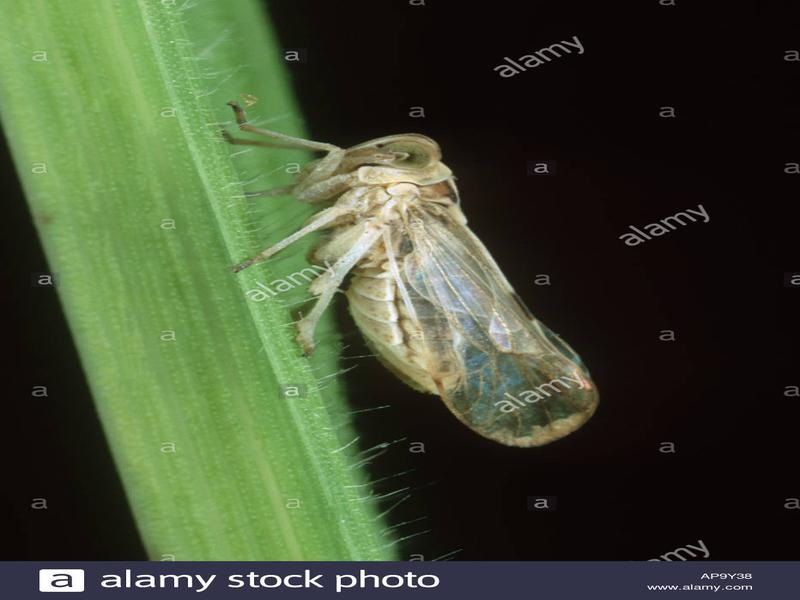White_backed_plant_hopper: (232, 123, 607, 452)
